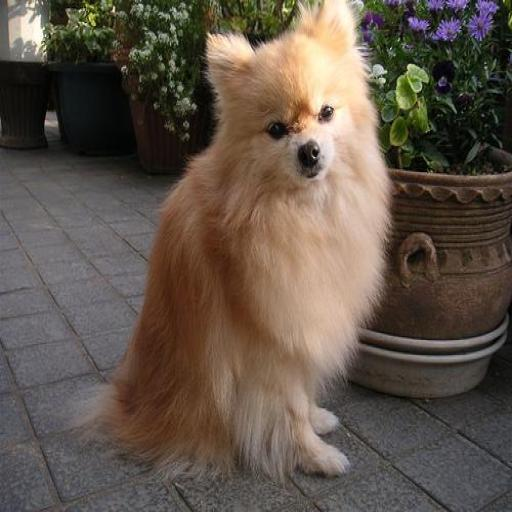dog_face: (206, 5, 353, 177)
